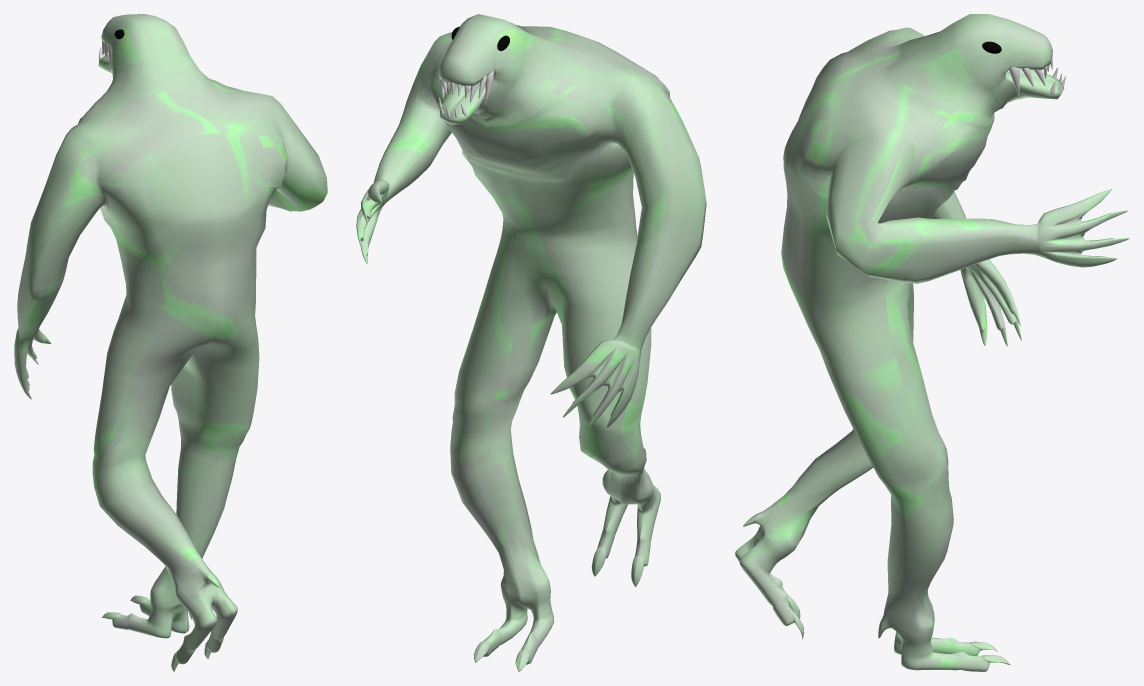
Rendered from Berserkercorrer.0075.obj.
The picture shows the model from 3 angles, left to right: view 1: azimuth 30°, elevation 25°; view 2: azimuth 150°, elevation 25°; view 3: azimuth 270°, elevation 25°; orthographic projection. The views are drawn at different scales.
Parts seen in each view (by area): view 1: polySurface27; view 2: polySurface27; view 3: polySurface27.
Boxes of the visible parts, x1,y1,x2,y2 form: polySurface27: [14, 14, 327, 671]; polySurface27: [356, 14, 706, 671]; polySurface27: [735, 14, 1129, 671].
Bounding box in the file's own units: 11.8 × 23.81 × 12.98.
1 material, 1 textured.
